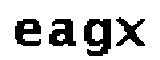a: (47, 18, 80, 51)
e: (11, 16, 43, 50)
g: (81, 16, 114, 60)
x: (116, 16, 146, 48)
